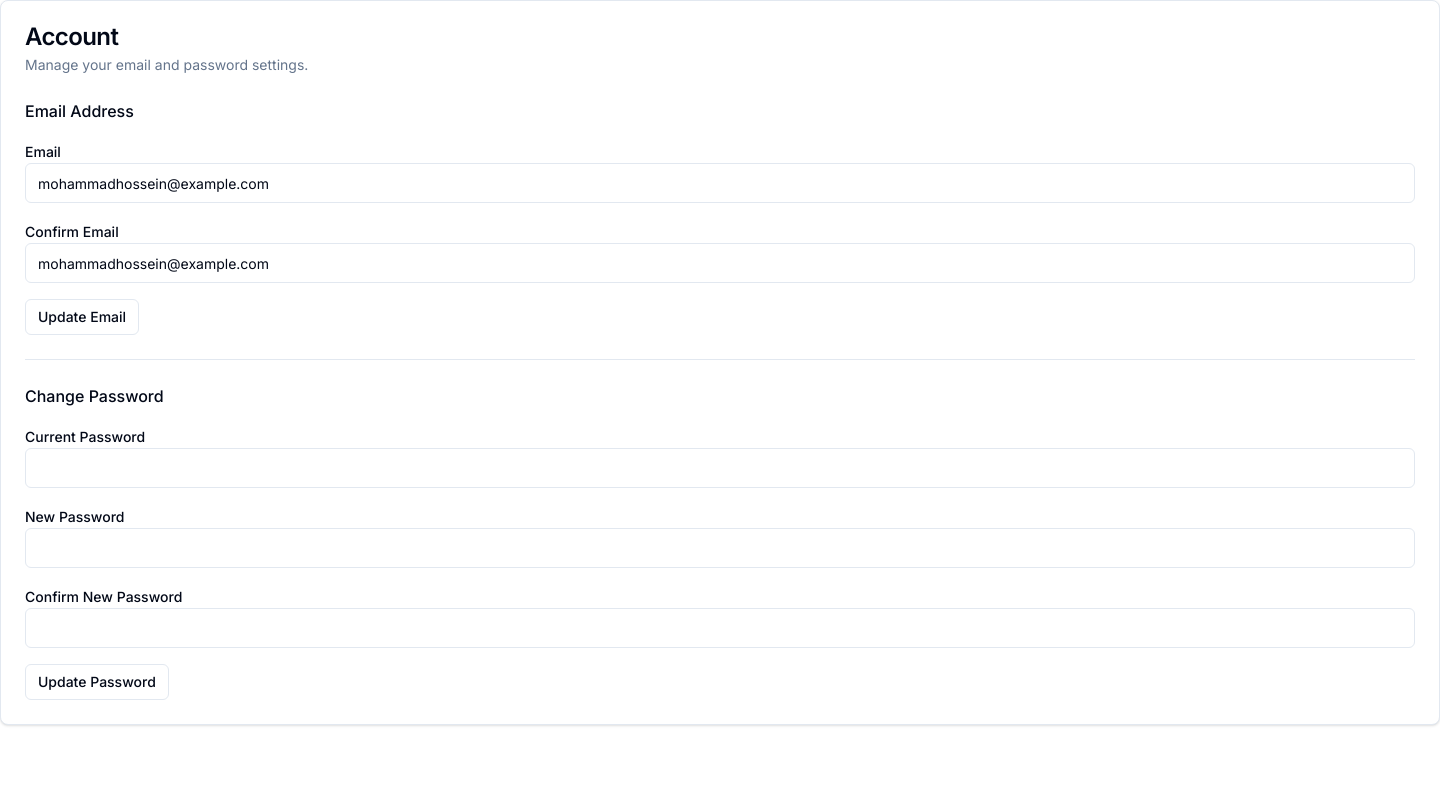
AccountTab › updates the email in persisted auth state
Replace the text in the field labelled "Email" with "arya@example.com": coordinates (720, 183) [25,163,1415,203]
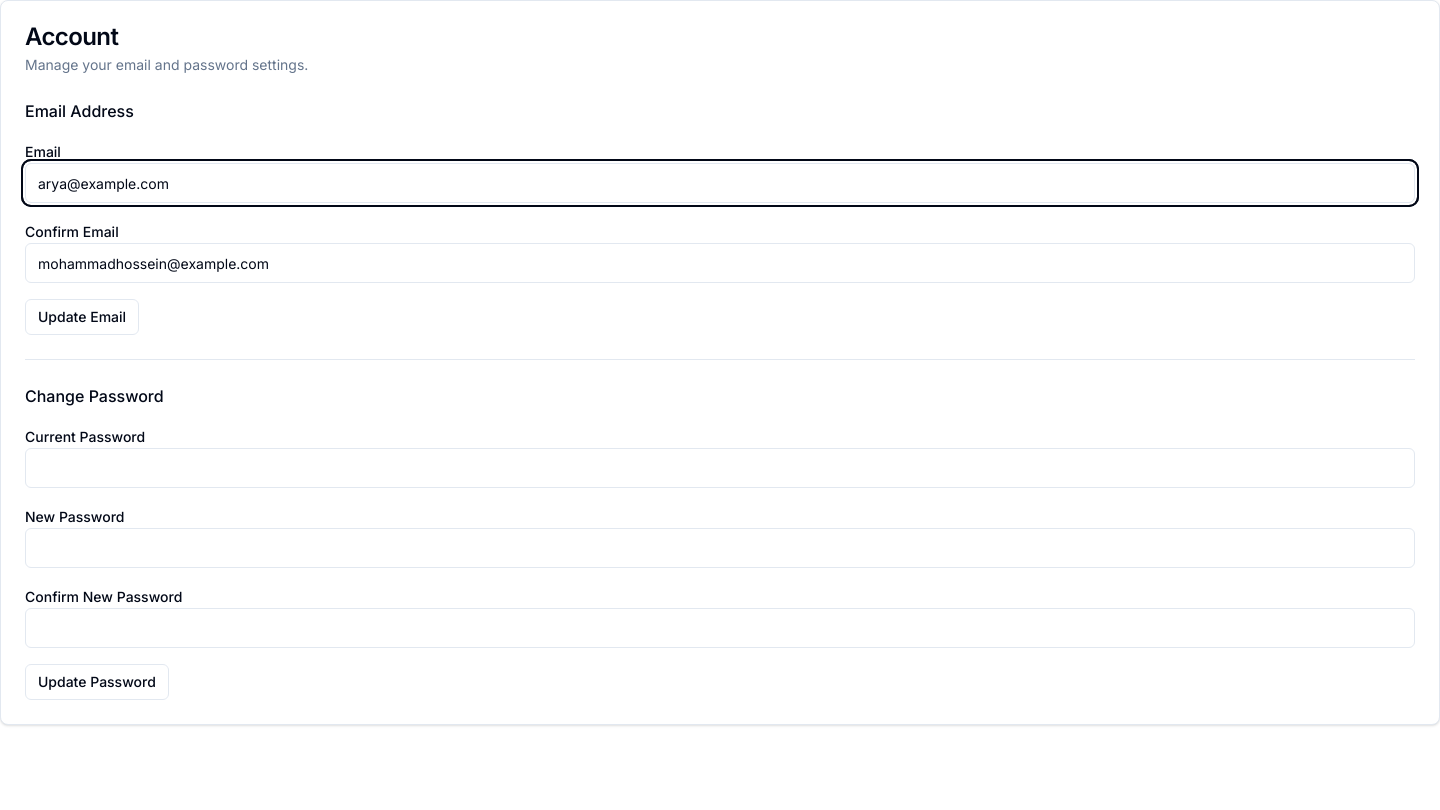
Replace the text in the field labelled "Confirm Email" with "arya@example.com": coordinates (720, 263) [25,243,1415,283]
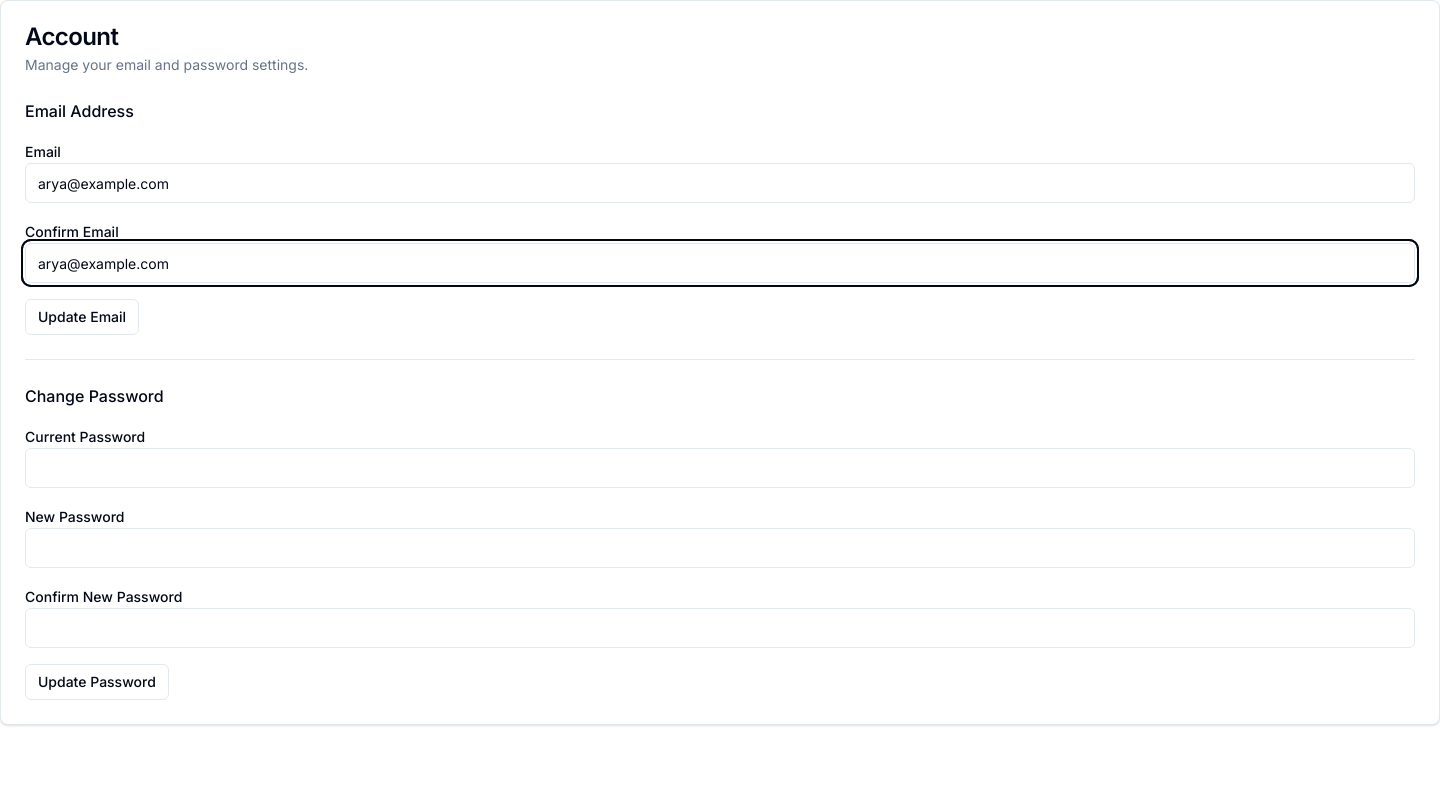
Click the button "Update Email": coordinates (82, 317) [25,299,139,335]
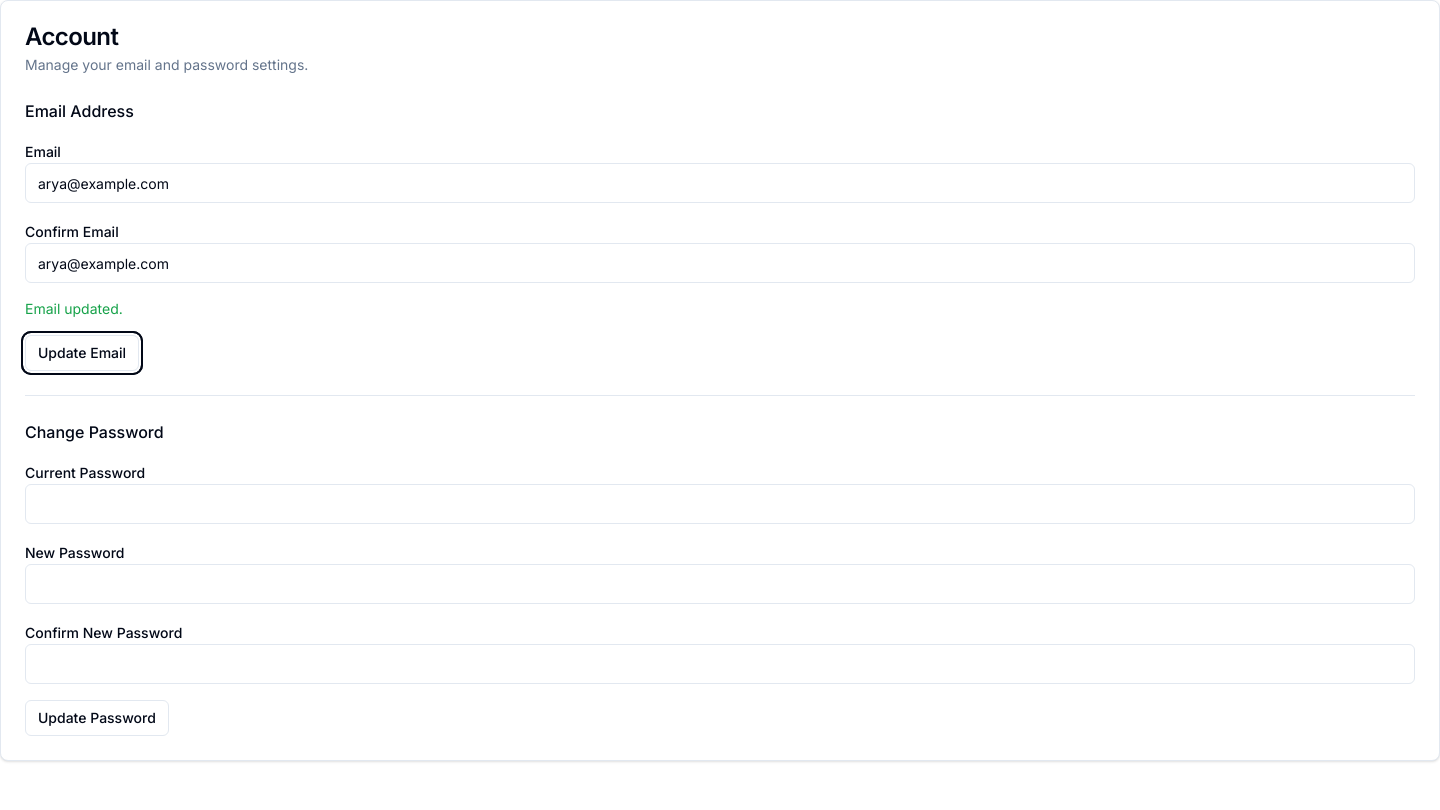
Expected: the message reads "Email updated.", [25,300,123,317]
